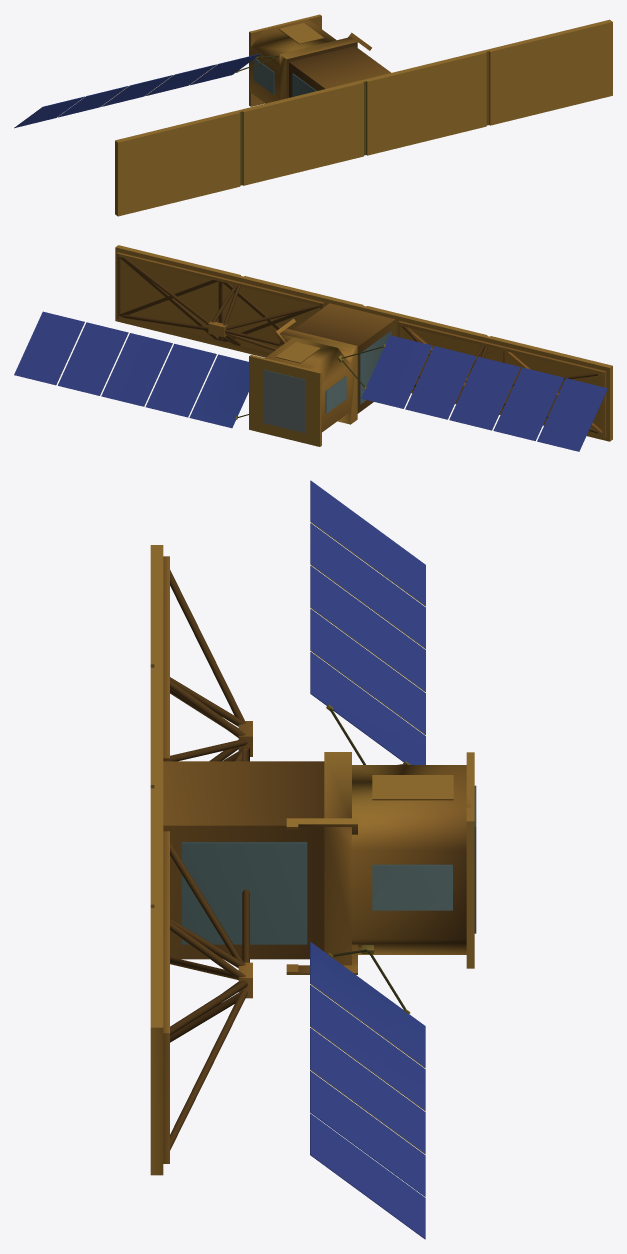
File: space-satellites-satellite_v6.glb
3 views of the same model, one above another, from view 1: azimuth 30°, elevation 25°; view 2: azimuth 150°, elevation 25°; view 3: azimuth 270°, elevation 25° (orthographic). The views are drawn at different scales.
Visible parts, largest first — view 1: Satellite_v6.001, Satellite_v6; view 2: Satellite_v6.001, Satellite_v6; view 3: Satellite_v6.001, Satellite_v6.
Part boxes in pixels (box(x1,y1,x2,y2)): Satellite_v6.001: box(14, 14, 612, 216); Satellite_v6: box(253, 58, 316, 96); Satellite_v6.001: box(14, 245, 612, 451); Satellite_v6: box(263, 331, 391, 433); Satellite_v6.001: box(150, 480, 474, 1239); Satellite_v6: box(181, 785, 476, 944).
Bounding box in the file's own units: 8 × 1.4 × 2.
